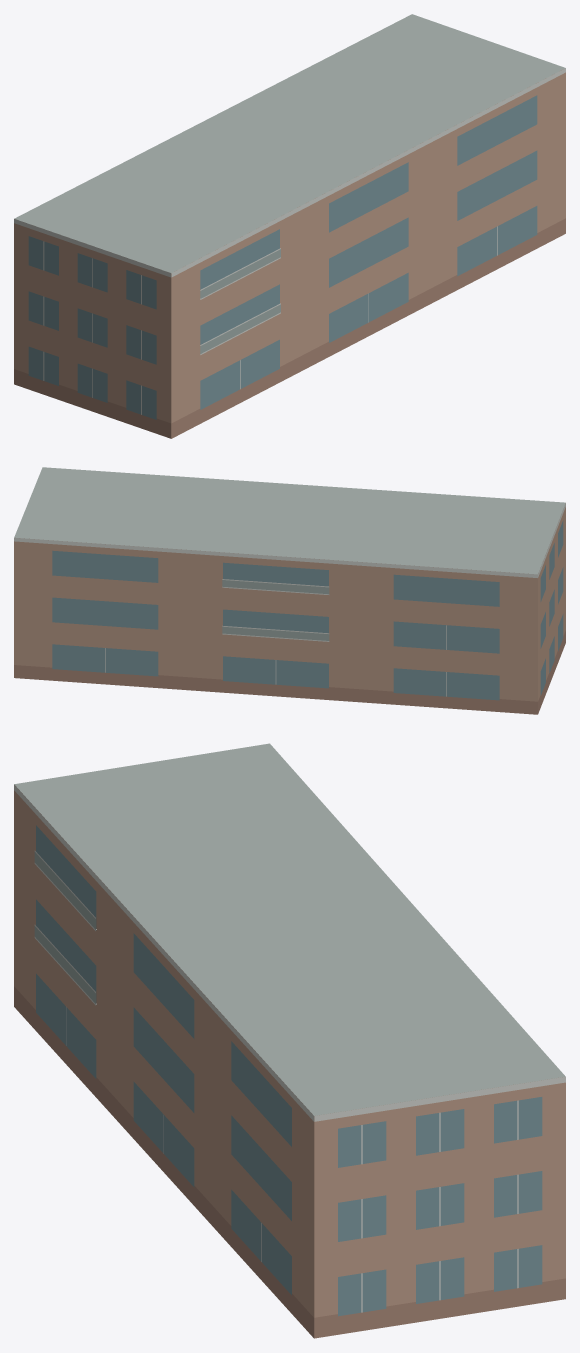
The model's file is survey-upis-32864028.glb.
3 views of the same model, one above another, from view 1: azimuth 30°, elevation 25°; view 2: azimuth 150°, elevation 25°; view 3: azimuth 270°, elevation 25° (orthographic). The views are drawn at different scales.
Visible parts, largest first — view 1: survey-upis-32864028.tmp; view 2: survey-upis-32864028.tmp; view 3: survey-upis-32864028.tmp.
Boxes of the visible parts, box(x1,y1,x2,y2) form: survey-upis-32864028.tmp: box(14, 14, 565, 438); survey-upis-32864028.tmp: box(14, 467, 565, 714); survey-upis-32864028.tmp: box(14, 743, 565, 1338).
Bounding box in the file's own units: 32.86 × 9.15 × 20.57.
